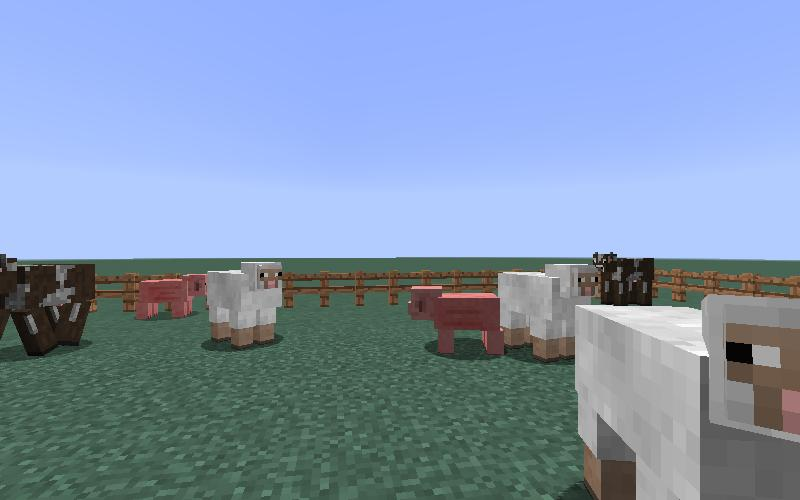cow: (1, 250, 96, 362), (592, 252, 655, 304)
pig: (405, 281, 502, 363), (127, 265, 207, 328)
sheep: (572, 286, 800, 500), (497, 256, 605, 363), (205, 258, 285, 351)
